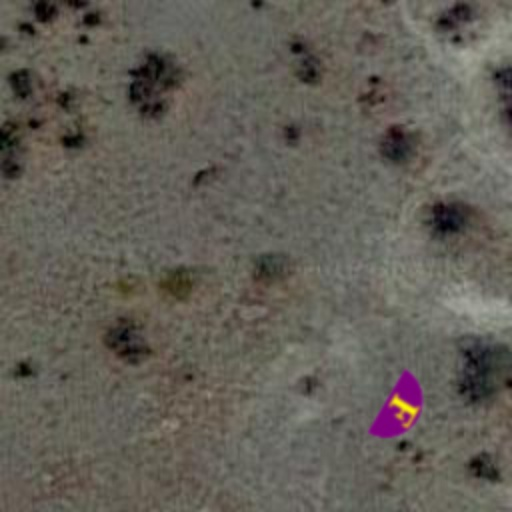semicircle: (350, 358, 454, 462)
